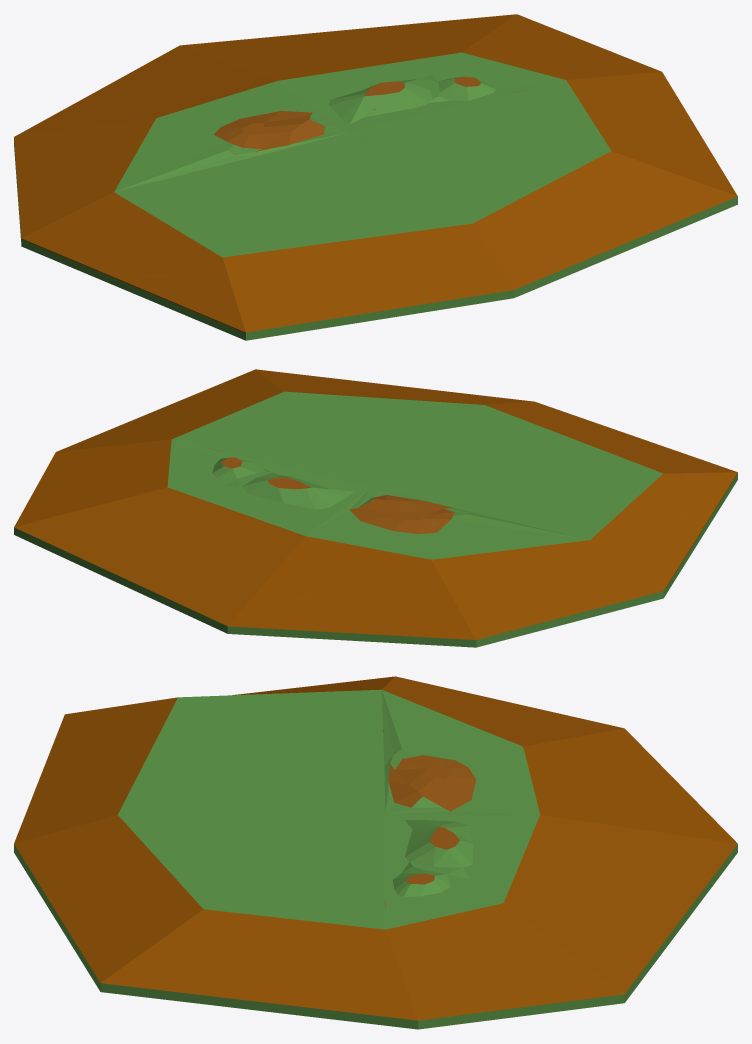
Rendered from IslandTest.fbx.
3 views of the same model, one above another, from view 1: azimuth 30°, elevation 25°; view 2: azimuth 150°, elevation 25°; view 3: azimuth 270°, elevation 25° (orthographic). The views are drawn at different scales.
Visible parts, largest first — view 1: island; view 2: island; view 3: island.
Part boxes in pixels (box(x1,y1,x2,y2)): island: box(14, 14, 737, 340); island: box(14, 369, 737, 647); island: box(14, 676, 737, 1029).
Bounding box in the file's own units: 94031 × 6484 × 83580.
1 material, 1 textured.
